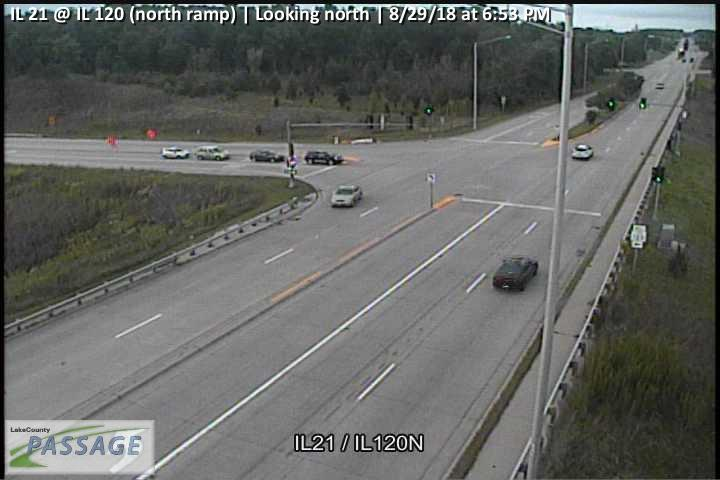SUV: (303, 149, 344, 165), (194, 145, 229, 160), (571, 143, 594, 160), (161, 147, 190, 159)
Sedan: (492, 255, 539, 291), (331, 184, 363, 207), (249, 149, 285, 163)
